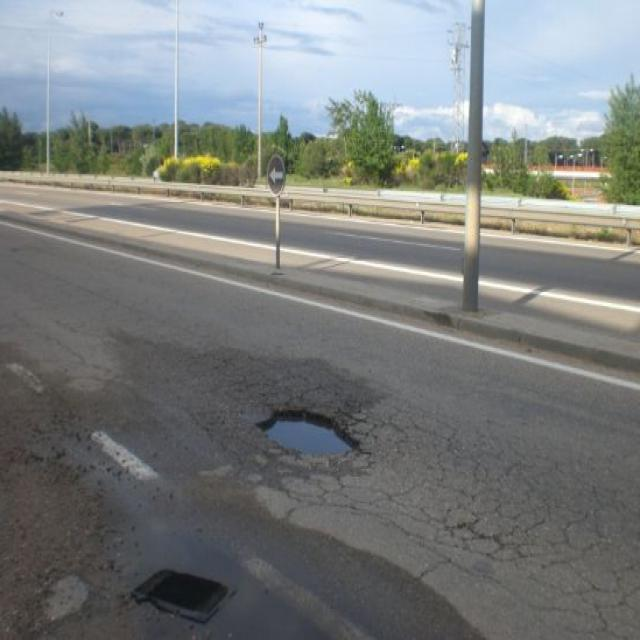Pothole: (256, 403, 369, 468)
